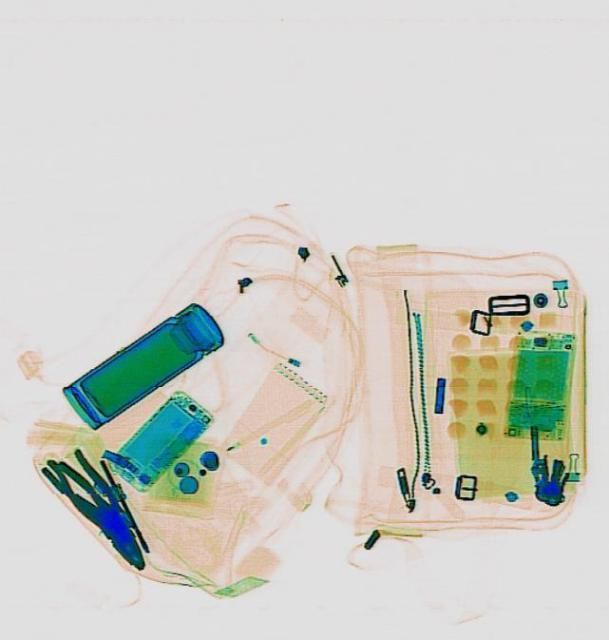Pliers: (38, 438, 160, 582)
